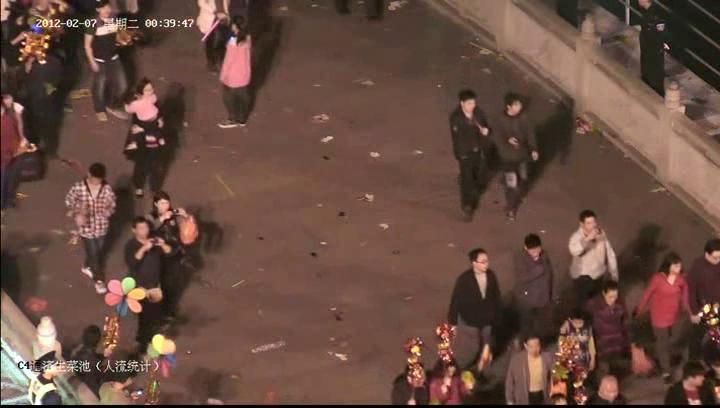person: (449, 245, 508, 375), (445, 84, 498, 222), (63, 159, 117, 294), (124, 214, 178, 344), (490, 90, 542, 222), (639, 249, 690, 366), (84, 1, 131, 126), (152, 193, 194, 327), (123, 74, 169, 195), (215, 14, 258, 132), (511, 232, 559, 335), (584, 282, 629, 376), (502, 331, 556, 406), (566, 207, 616, 286), (663, 356, 720, 405), (693, 241, 720, 332)
